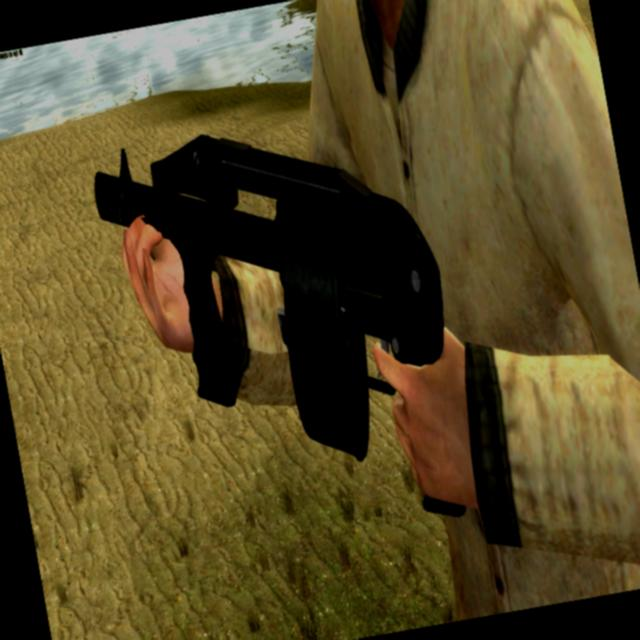shotgun: (68, 78, 504, 548)
